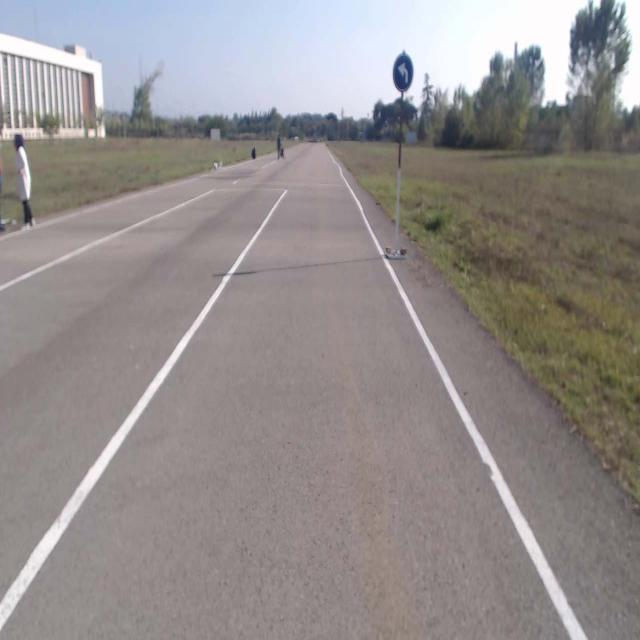sol: (393, 54, 413, 91)
